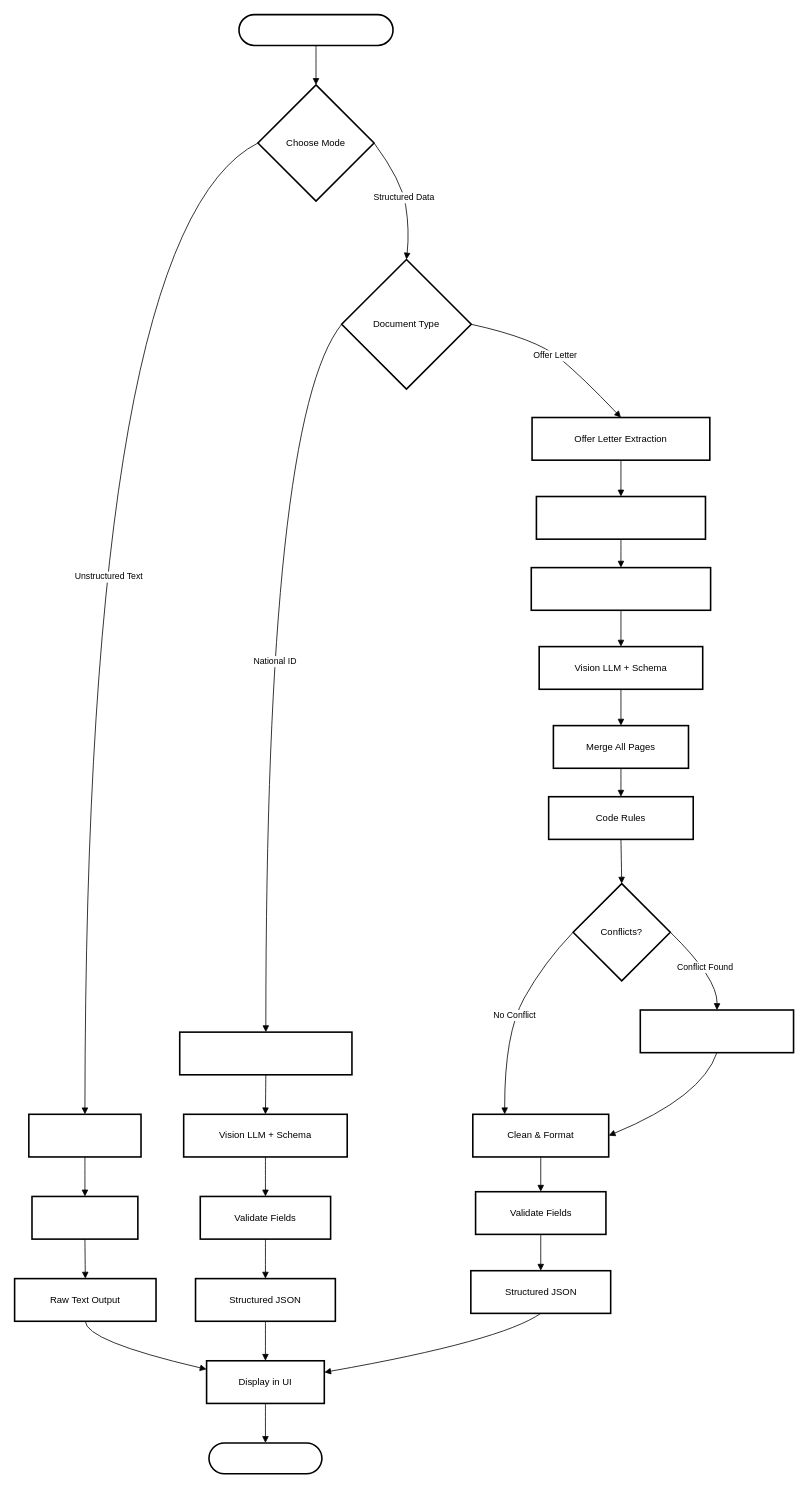
Image size: 807x1488. Some labels were removed from this diagram. The centre of each missing label's shape, as x and y in pixels:
"Download Result" belongs at (265,1458).
"Extract from Each Page" belongs at (620,588).
"LLM Judge Decides" belongs at (716,1031).
"Multi-Page Processing" belongs at (620,517).
"National ID Extraction" belongs at (265,1053).
"Simple OCR" belongs at (84,1135).
"User Uploads Document" belongs at (315,29).
"Vision LLM" belongs at (84,1217).
